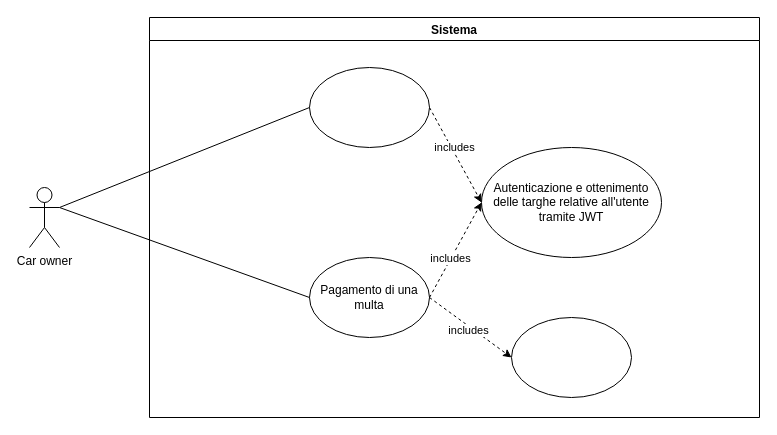
Some shapes in this 777 by 435 pixel diagram are drawn without their labels. The shapes that lost their labels are listed below. From the top down, each one's box as (x1, y1, x2, y2) in pixels, then its label:
(308, 66, 430, 148): Richiesta dell'elenco delle proprie multe
(510, 316, 632, 398): Segnalazione di una multa come pagata
